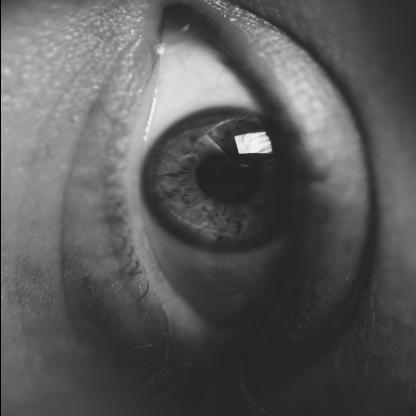Eye: (52, 0, 378, 416)
